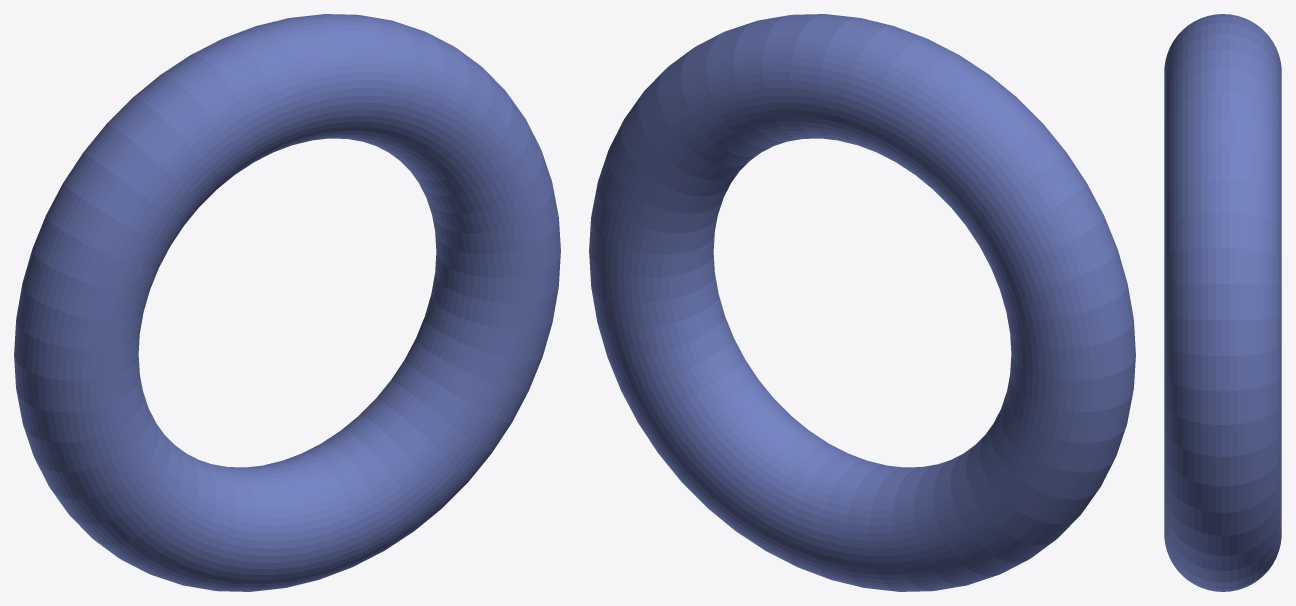
The picture shows the model from 3 angles, left to right: view 1: azimuth 30°, elevation 25°; view 2: azimuth 150°, elevation 25°; view 3: azimuth 270°, elevation 25°; orthographic projection. The views are drawn at different scales.
Parts seen in each view (by area): view 1: world; view 2: world; view 3: world.
Part boxes in pixels (x1,y1,x2,y2): world: (14, 14, 560, 591); world: (589, 14, 1135, 591); world: (1164, 14, 1281, 591).
Size of the model in its own units: 15.07 by 15.04 by 3.06.
